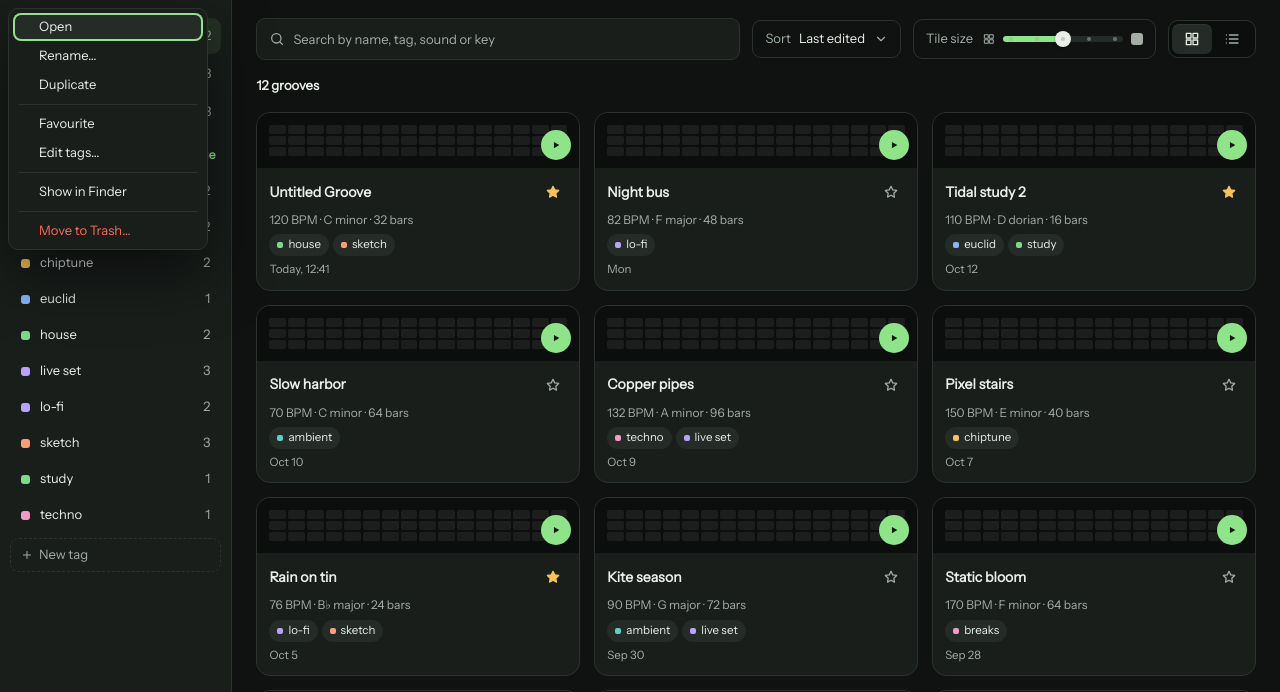
Test: GrooveBrowser › should duplicate a groove from the context menu
Expected: the text "12 grooves" is shown, [256,77,319,95]
Click the menu item "Duplicate".
click(108, 85)  # box [13,71,203,99]
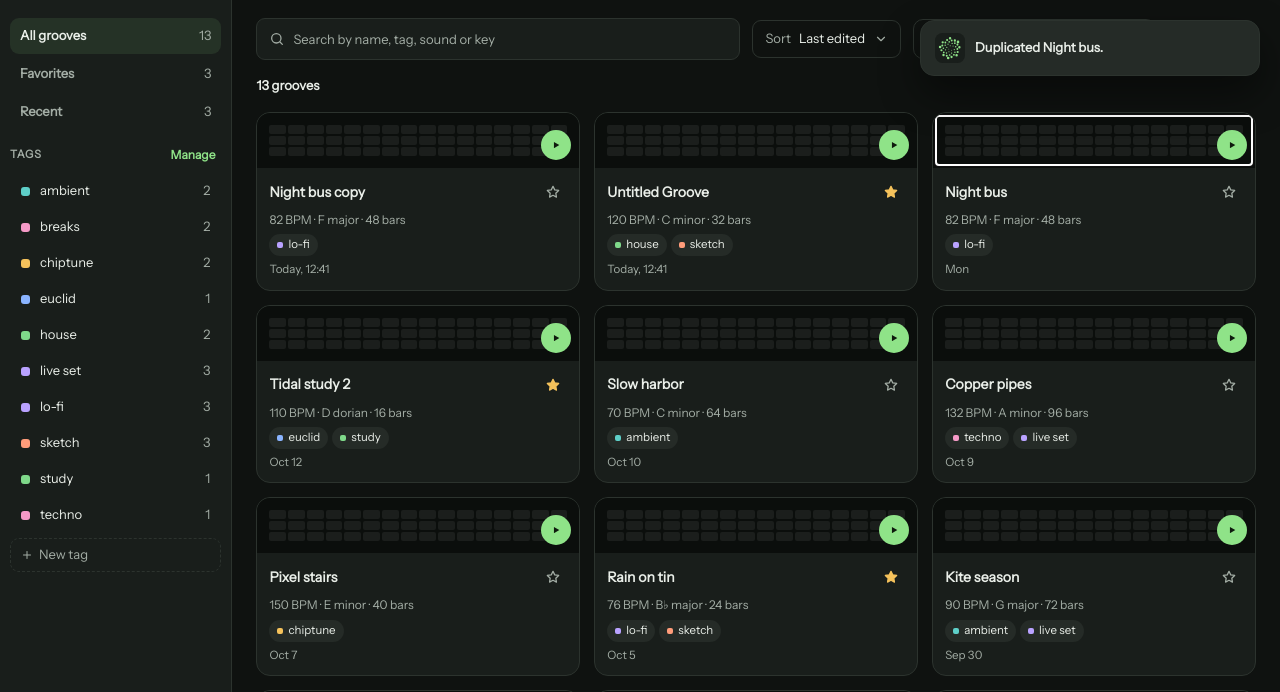
Now the heading "Night bus copy" is shown, box [269,182,365,200]
Now the text "13 grooves" is shown, box [256,77,319,95]
